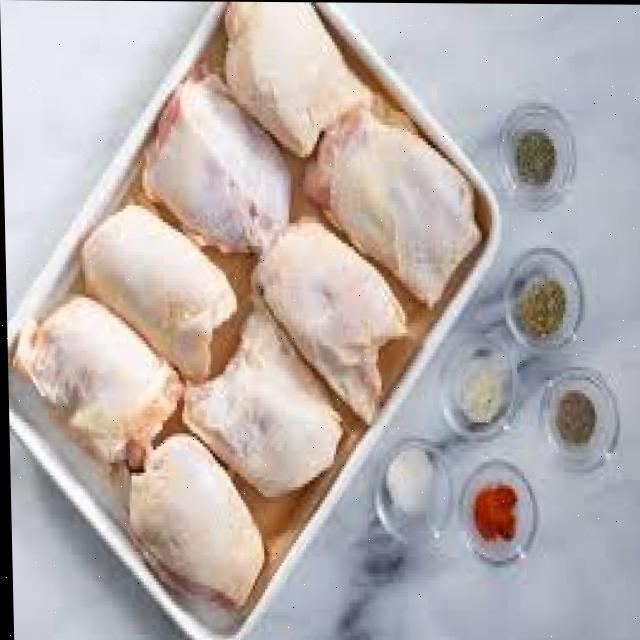thigh: (150, 308, 346, 511), (224, 218, 430, 384), (77, 194, 255, 384), (162, 1, 404, 137), (136, 68, 292, 256), (9, 295, 168, 472), (292, 120, 480, 269), (104, 446, 276, 600)
